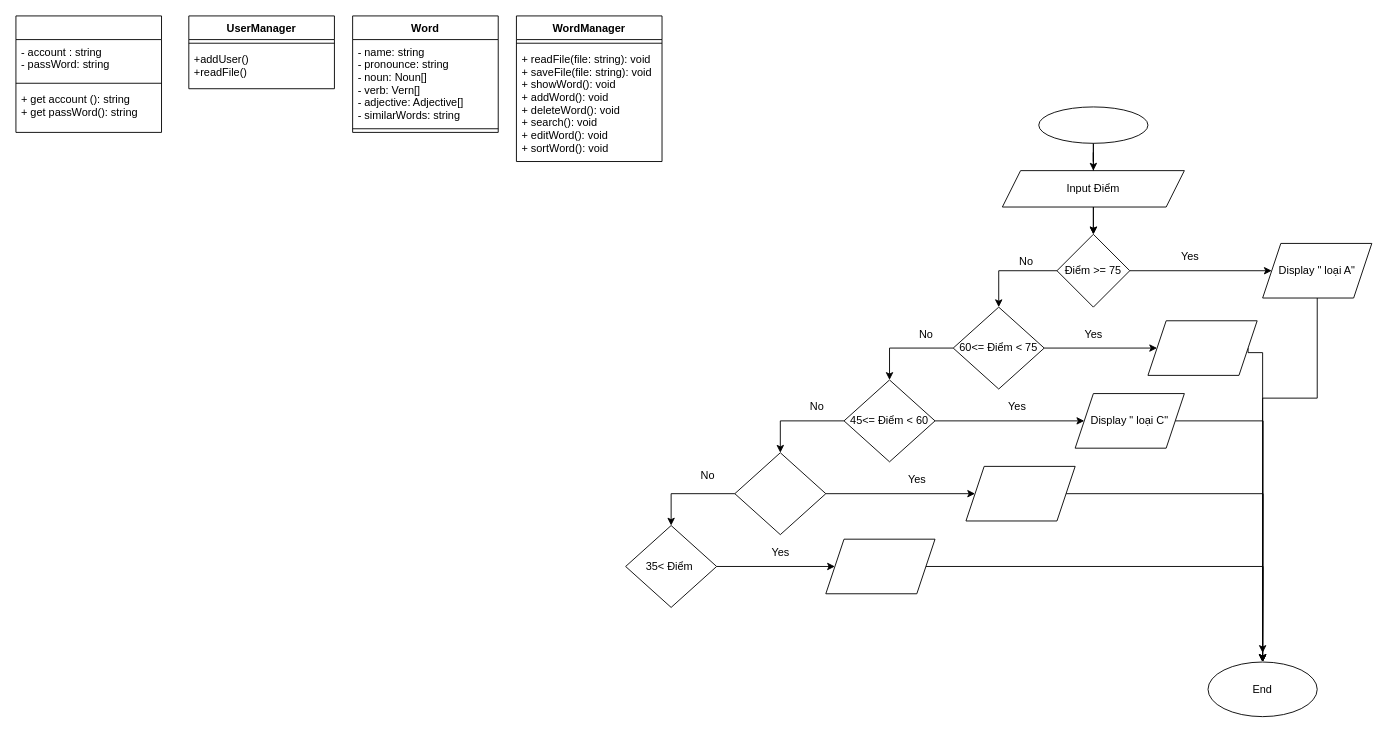
The diagram is 1388 pixels wide and 733 high, and some of its shapes have lost their labels. Each missing label, with the box of its shape:
35<= Điểm < 45: (734, 452, 826, 535)
Begin: (1038, 106, 1148, 143)
Display " loại B": (1147, 320, 1257, 375)
Display " loại D": (965, 465, 1075, 521)
Display " loại E": (825, 538, 935, 594)
User: (15, 15, 162, 132)
